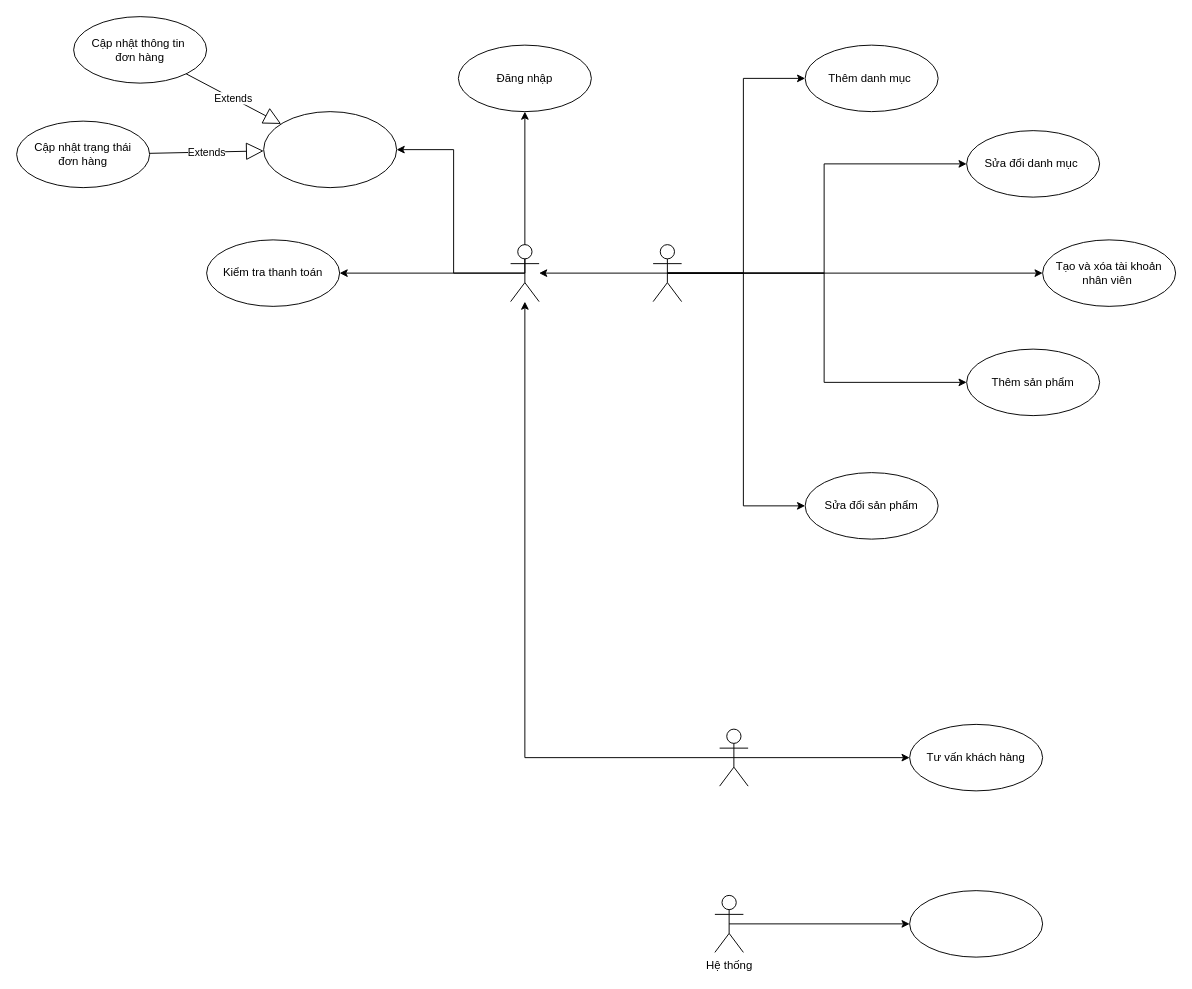
Image size: 1192x989. Some labels were removed from this diagram. Each missing label, with the centre of its shape:
"Gửi thông báo các đơn đặt hàng" goes at (976,923).
"Người dùng" goes at (524,273).
"Nhân viên" goes at (733,757).
"Quản lý" goes at (667,273).
"Quản lý đơn hàng" goes at (330,149).
